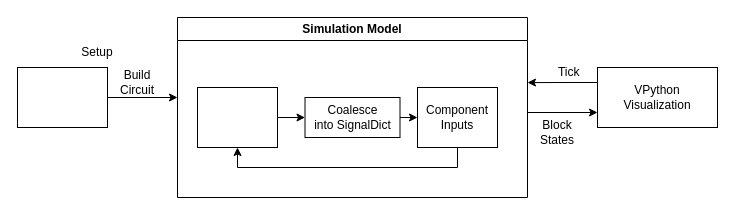
This 735x215 diagram has some shape labels left out. The shapes that lost their labels are listed below. From the top down, each one's centre as x and y in pixels, then its label:
point 62,97: List of Circuit Components
point 237,117: Component Outputs
